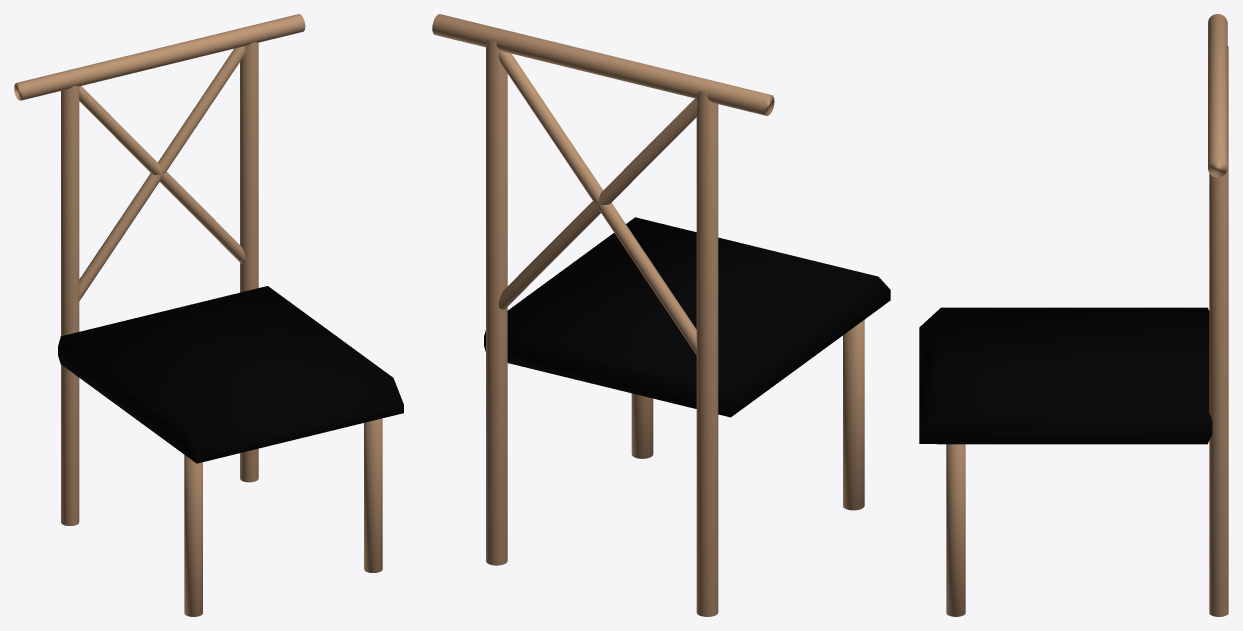
3 renders of one model, left to right at view 1: azimuth 30°, elevation 25°; view 2: azimuth 150°, elevation 25°; view 3: azimuth 270°, elevation 25°, orthographic. The views are drawn at different scales.
Parts seen in each view (by area): view 1: Cube, Cylinder.004, Cylinder.006, Cylinder.002, Cylinder.007, Cylinder, Cylinder.005, Cylinder.001; view 2: Cube, Cylinder.004, Cylinder.002, Cylinder.006, Cylinder.007, Cylinder.005, Cylinder, Cylinder.001; view 3: Cube, Cylinder.002, Cylinder.001, Cylinder.006.
Boxes of the visible parts, left/top/right/bottom form: Cube: left=58, top=286, right=403, bottom=463; Cylinder.004: left=61, top=86, right=79, bottom=525; Cylinder.006: left=14, top=14, right=305, bottom=100; Cylinder.002: left=240, top=42, right=258, bottom=482; Cylinder.007: left=79, top=46, right=245, bottom=300; Cylinder: left=184, top=455, right=202, bottom=616; Cylinder.005: left=79, top=86, right=245, bottom=263; Cylinder.001: left=364, top=418, right=382, bottom=572; Cube: left=484, top=217, right=890, bottom=417; Cylinder.004: left=696, top=91, right=718, bottom=616; Cylinder.002: left=486, top=40, right=507, bottom=565; Cylinder.006: left=432, top=14, right=774, bottom=115; Cylinder.007: left=498, top=50, right=697, bottom=355; Cylinder.005: left=498, top=98, right=697, bottom=309; Cylinder: left=843, top=320, right=864, bottom=510; Cylinder.001: left=631, top=393, right=653, bottom=458; Cube: left=919, top=307, right=1212, bottom=444; Cylinder.002: left=1209, top=138, right=1228, bottom=616; Cylinder.001: left=946, top=444, right=965, bottom=616; Cylinder.006: left=1208, top=14, right=1227, bottom=177.
Bounding box in the file's own units: 0.53 × 0.8118 × 0.4752.
